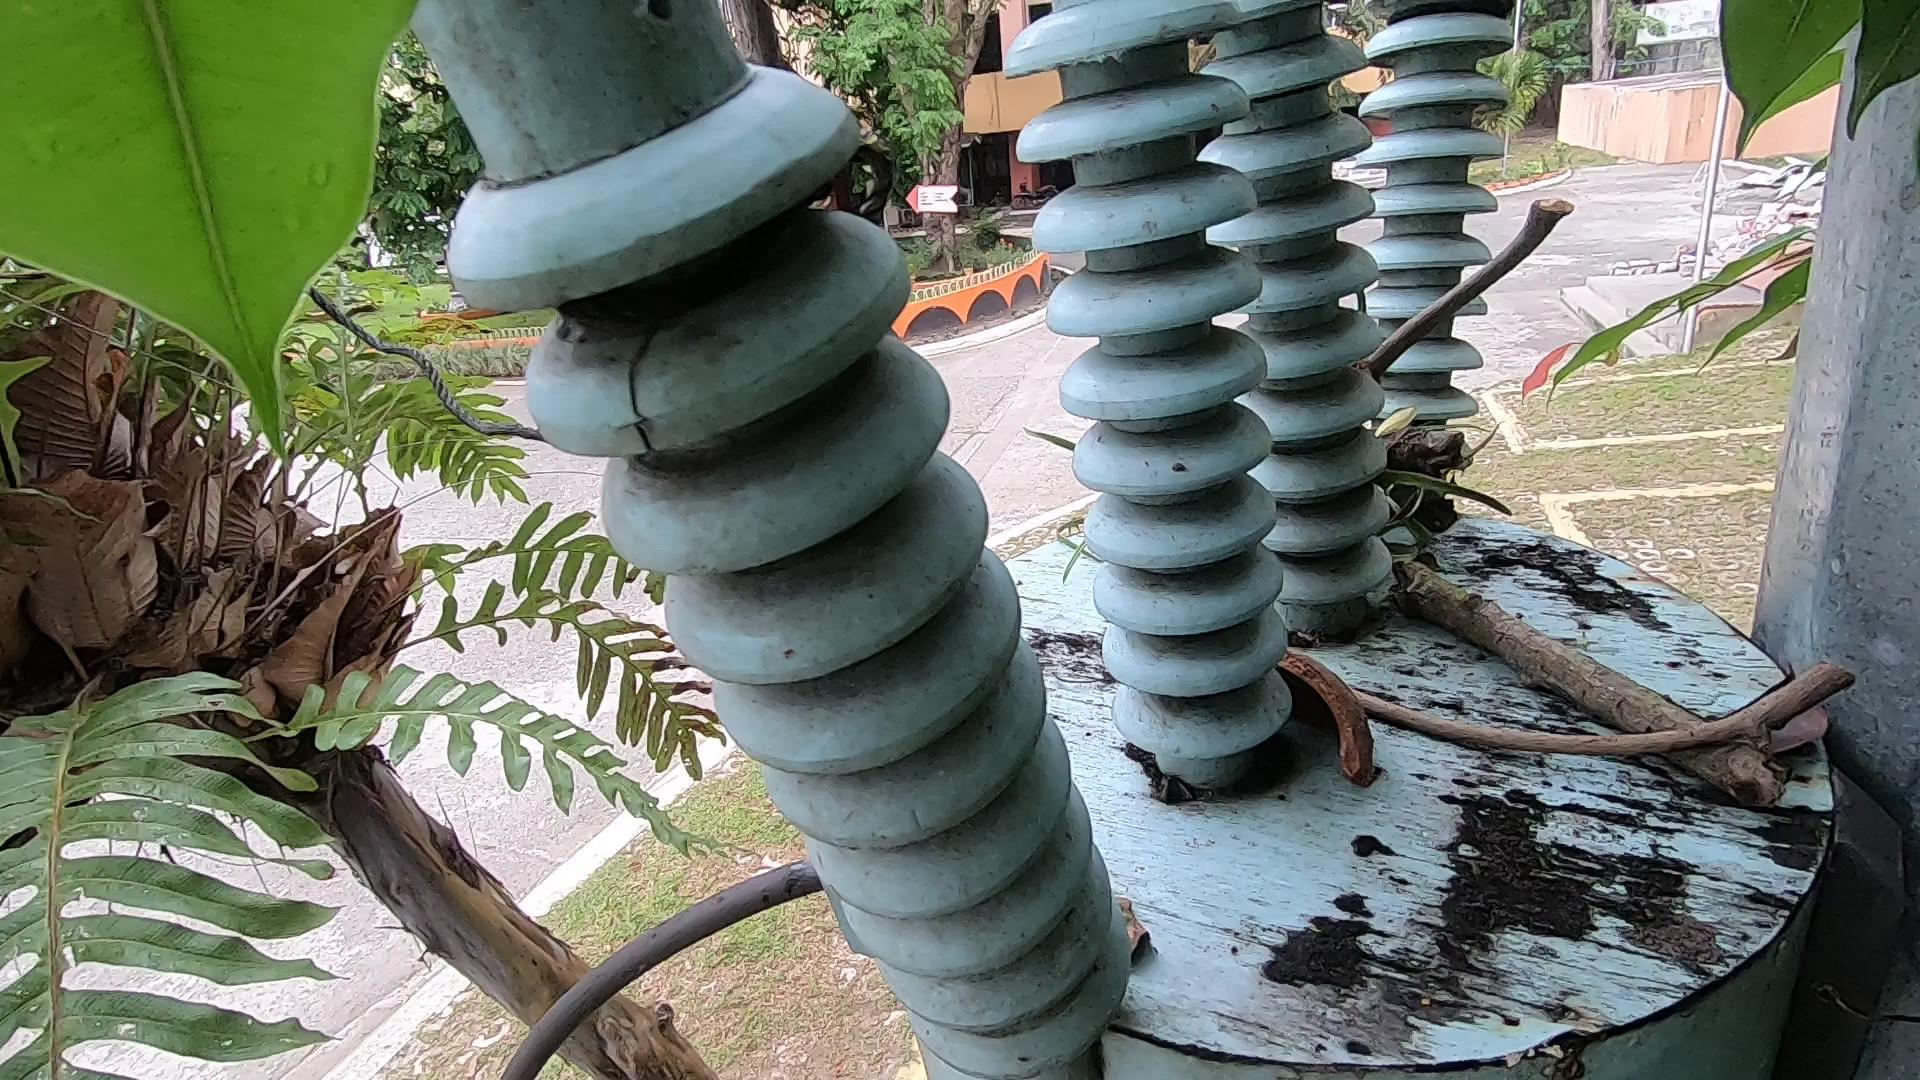branch with leaves: (1371, 380, 1849, 884)
leaf: (1743, 549, 1878, 832), (1093, 858, 1193, 992)
mahogany fruit: (1280, 630, 1439, 822)
tree branch: (1335, 153, 1597, 454), (1279, 663, 1828, 769)
